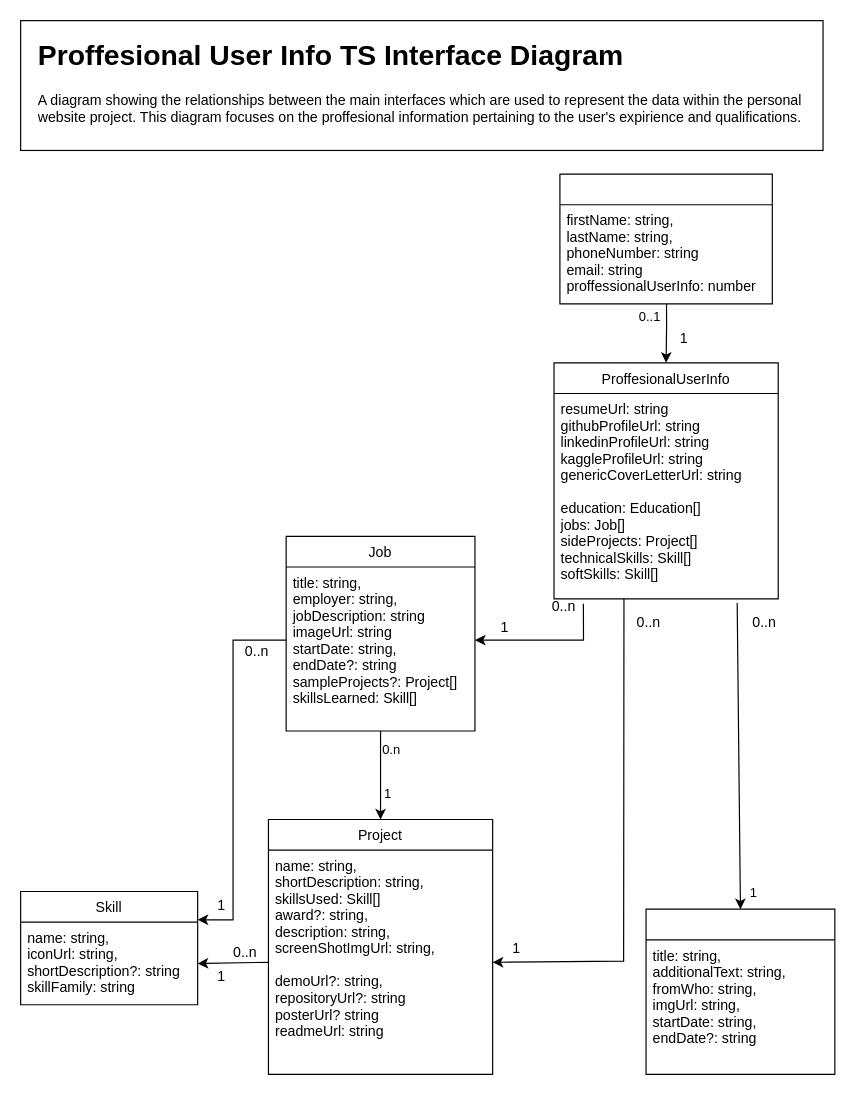
Image size: 855x1099. Some labels were removed from this diagram. The shapes that lost their labels are listed below. From the top down, each one's box as (x1, y1, x2, y2) in pixels, then its label:
(559, 173, 772, 304): RegisteredUser
(645, 908, 835, 1074): Education
